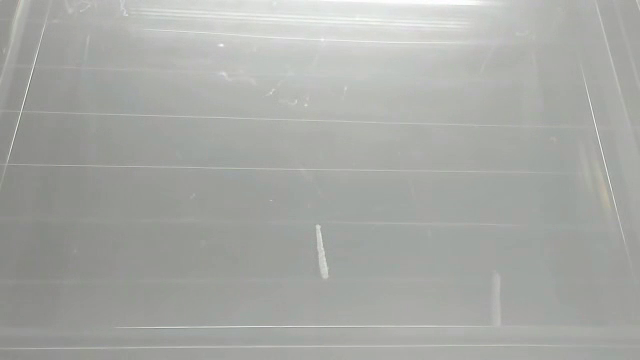alpha: (311, 221, 336, 281), (487, 267, 506, 334)
